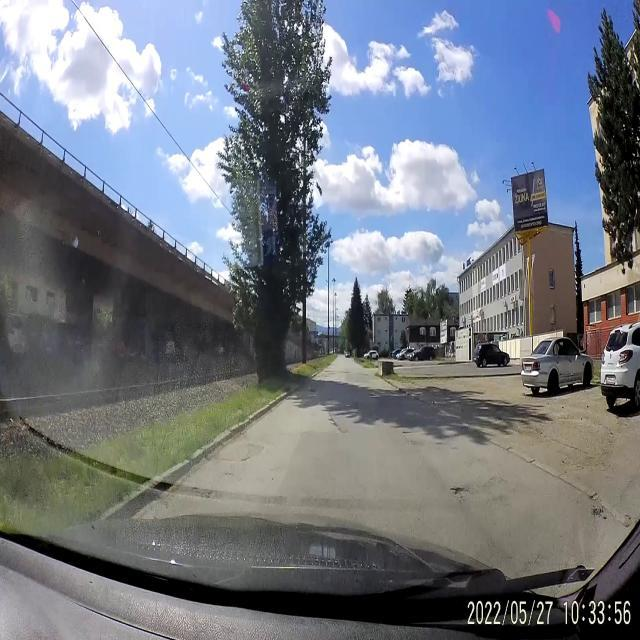Manhole: (220, 437, 266, 467)
Pothole: (590, 500, 612, 522), (450, 480, 468, 504)
